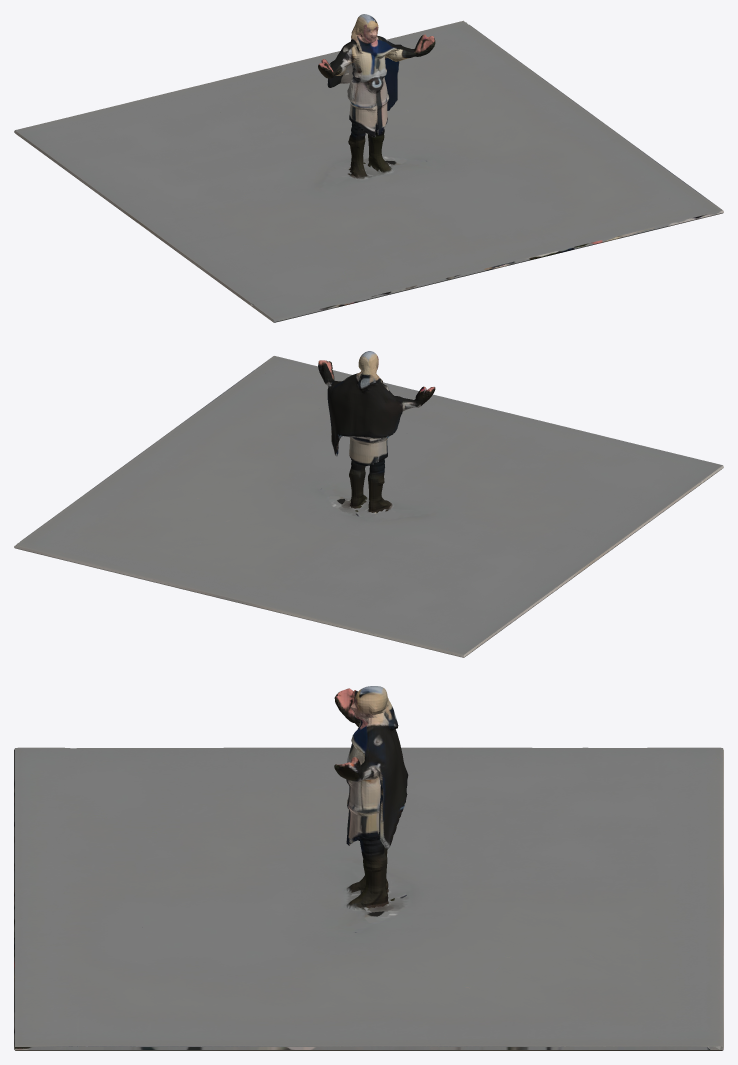
File: maret.glb
3 views of the same model, one above another, from view 1: azimuth 30°, elevation 25°; view 2: azimuth 150°, elevation 25°; view 3: azimuth 270°, elevation 25° (orthographic). The views are drawn at different scales.
Visible parts, largest first — view 1: textured_mesh.obj; view 2: textured_mesh.obj; view 3: textured_mesh.obj.
Boxes of the visible parts, box(x1,y1,x2,y2) form: textured_mesh.obj: box(14, 14, 723, 322); textured_mesh.obj: box(14, 351, 723, 657); textured_mesh.obj: box(14, 686, 723, 1050).
Bounding box in the file's own units: 1.99 × 0.6617 × 1.99.
Materials: 1 (1 with a texture image).
